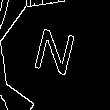N_S: (29, 26, 81, 84)
